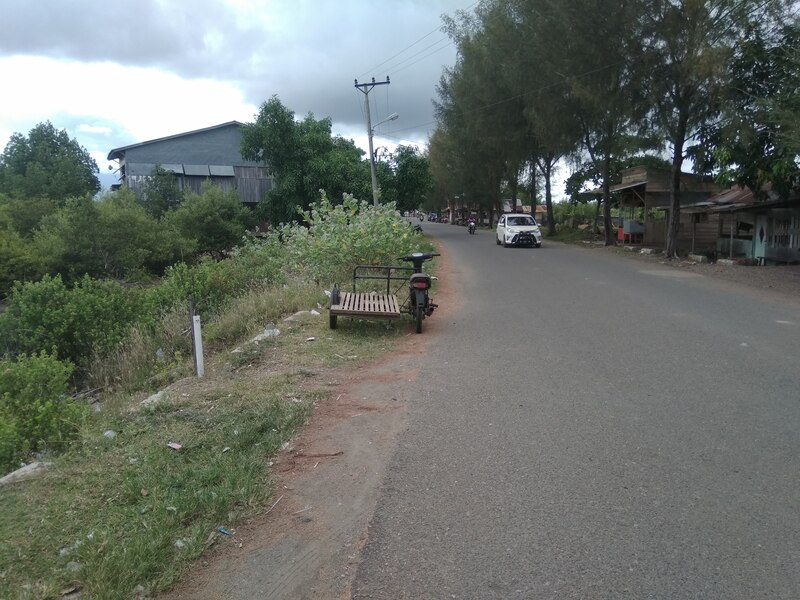becak barang: (324, 246, 444, 340)
